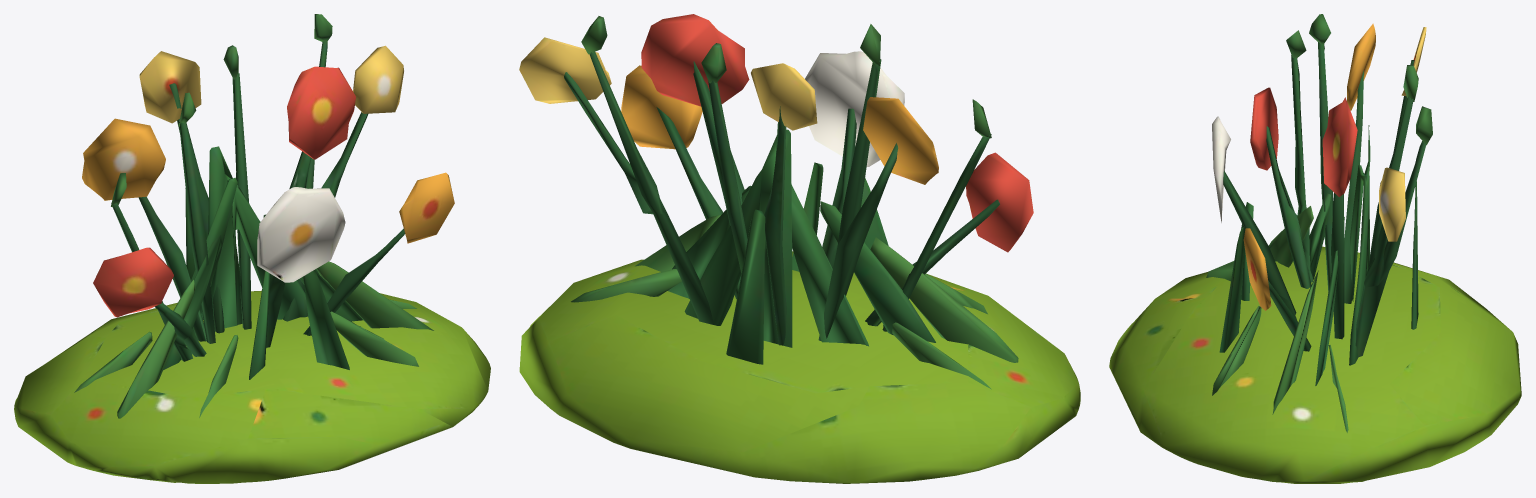
Rendered from wildflowers.glb.
3 views of the same model, side by side, from view 1: azimuth 30°, elevation 25°; view 2: azimuth 150°, elevation 25°; view 3: azimuth 270°, elevation 25° (orthographic). The views are drawn at different scales.
Parts seen in each view (by area): view 1: mound; view 2: mound; view 3: mound.
Boxes of the visible parts, x1=… form: mound: x1=14, y1=14, x2=490, y2=483; mound: x1=519, y1=14, x2=1080, y2=483; mound: x1=1109, y1=14, x2=1521, y2=483.
Bounding box in the file's own units: 0.6884 × 0.4866 × 0.5536.
1 material, 1 textured.
